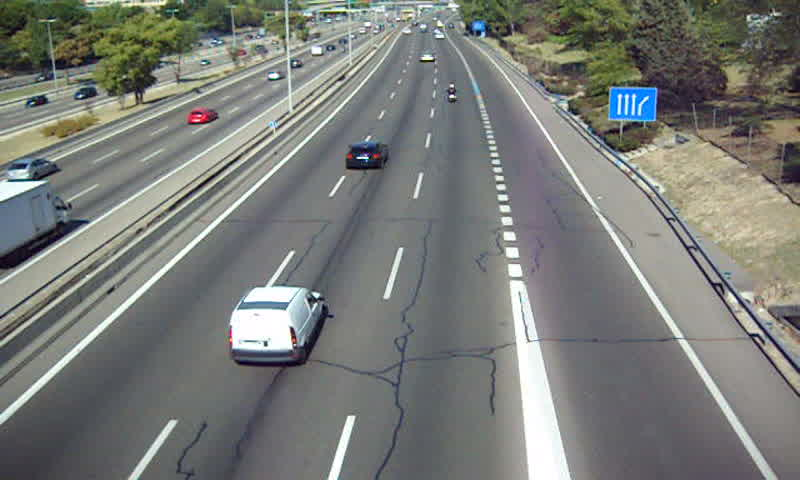car: (345, 142, 388, 171), (419, 53, 435, 64)
motorcycle: (444, 84, 460, 105)
van: (227, 286, 329, 367)
